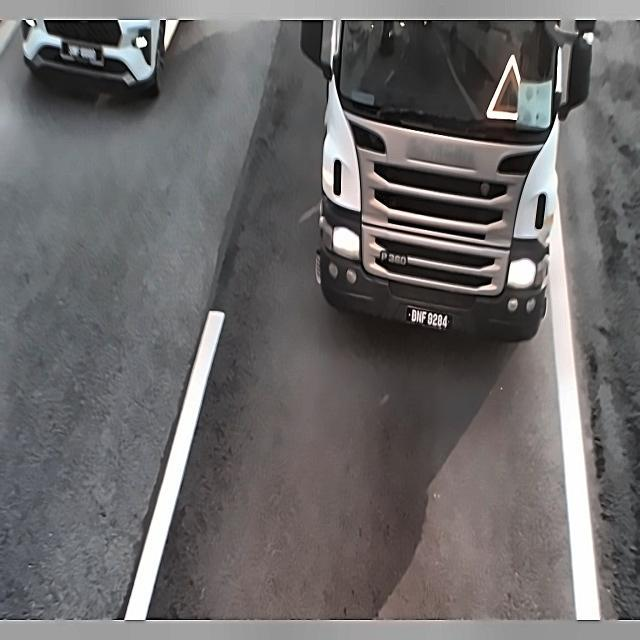car: (56, 34, 109, 71), (402, 299, 454, 335)
